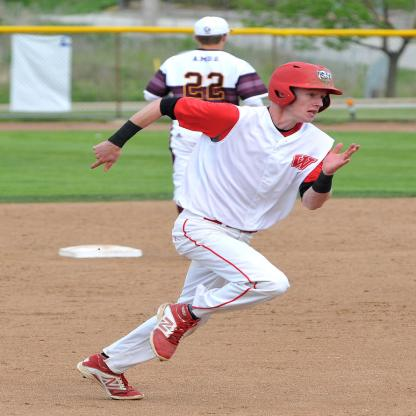Helmet: (271, 54, 343, 115), (193, 14, 234, 36)
